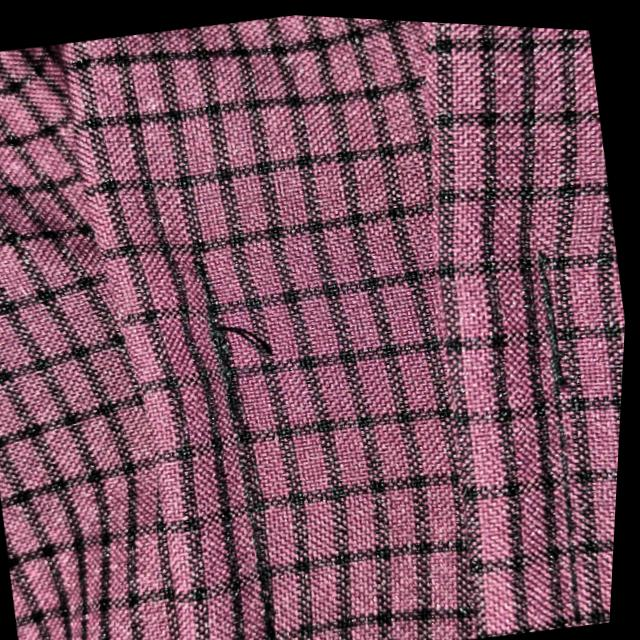Stitch: (165, 274, 328, 407)
